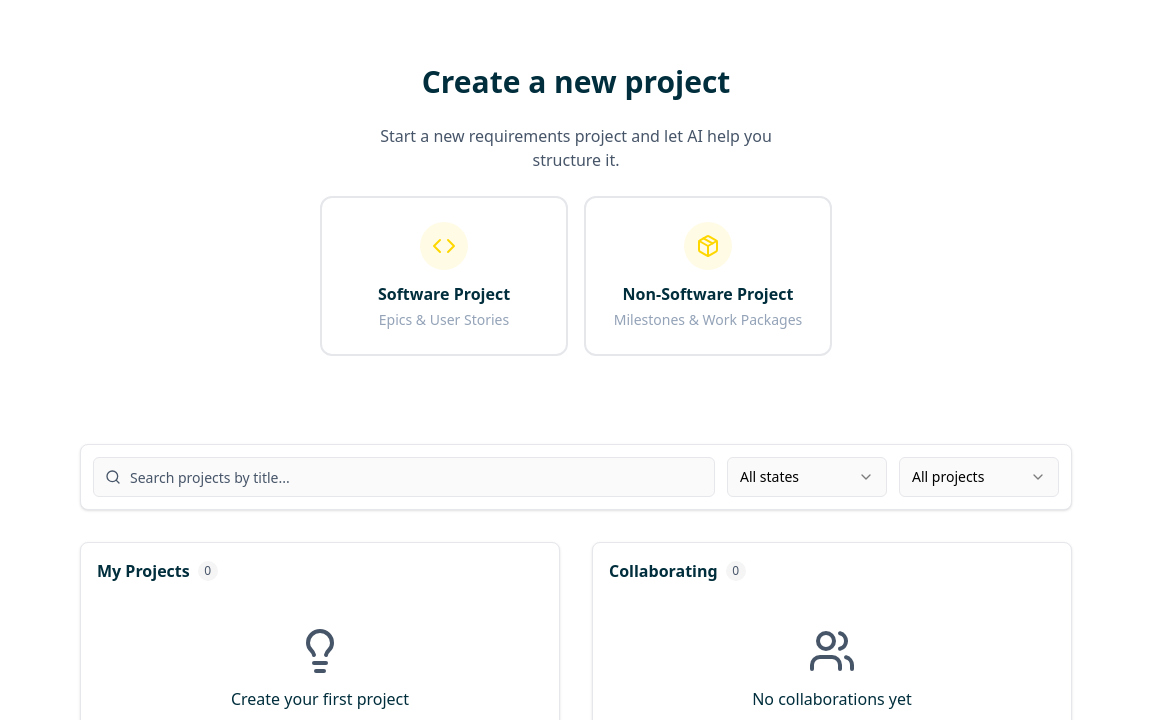
Test case: T-9.4.01 / T-9.4.02: FilterBar integration with LandingPage › shows 'Clear filters' after debounced search
The image size is (1152, 720).
Type "test" into the field with placeholder "Search projects by title..." at (404, 477), box [93,457,715,497]
Wait 350 ms
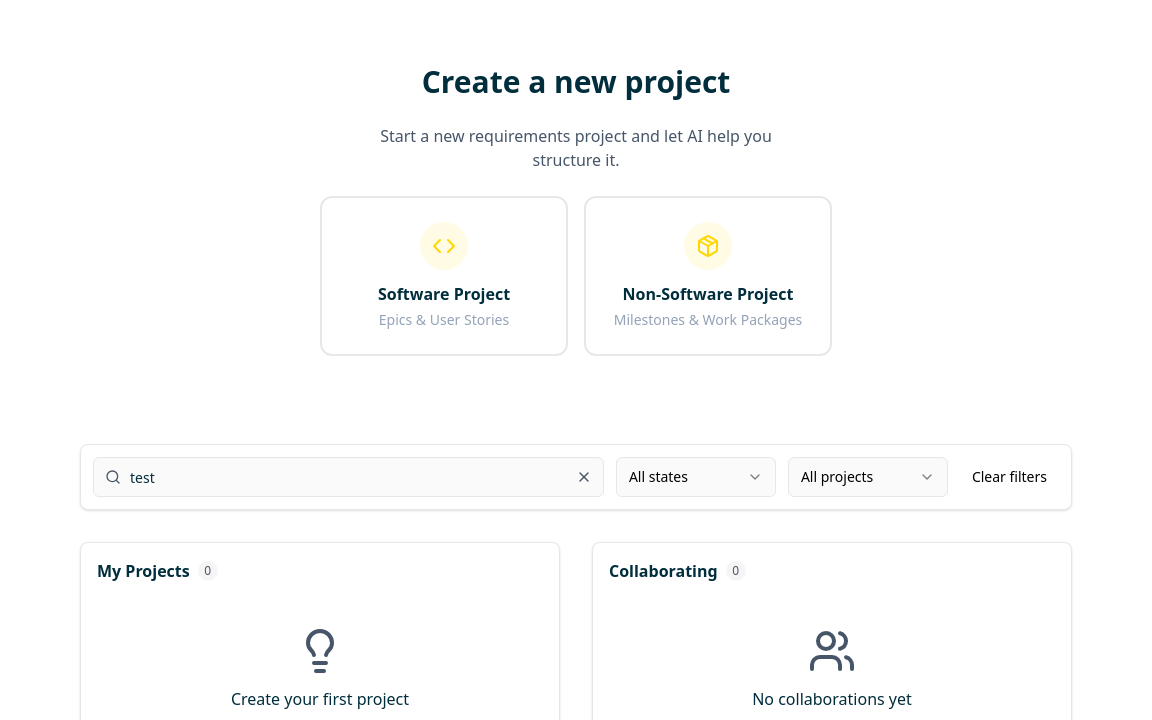
Result: the button "Clear filters" is shown at [960,461,1059,493]
